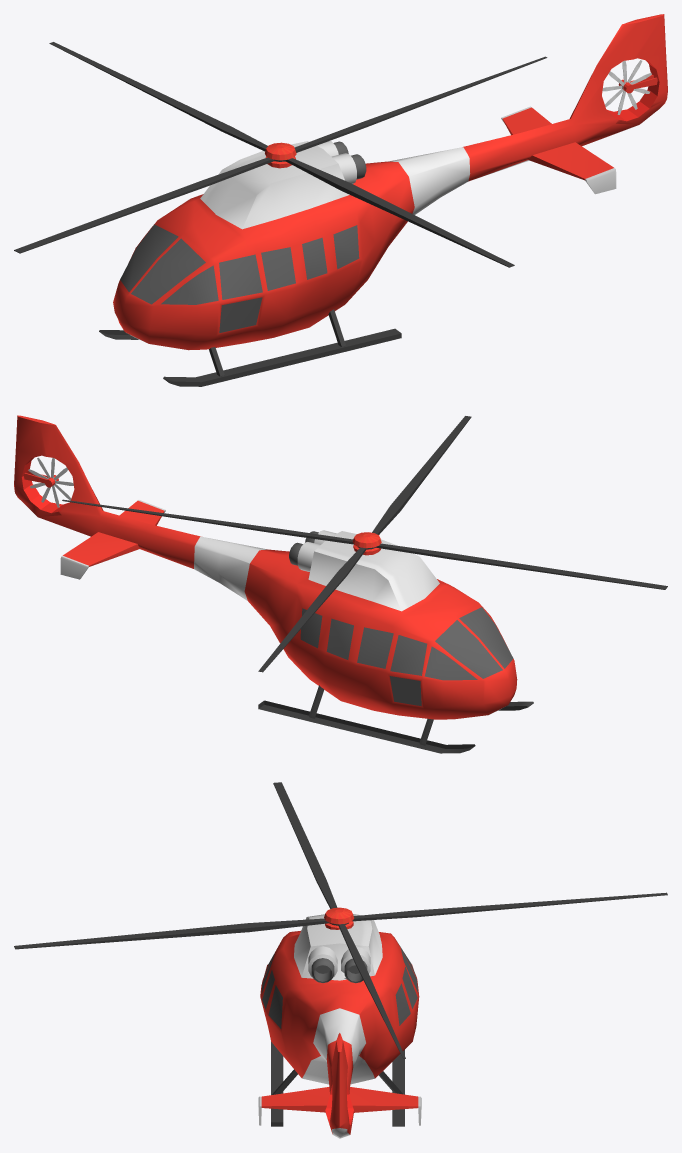
The model's file is helicopter.dae.
3 views of the same model, one above another, from view 1: azimuth 30°, elevation 25°; view 2: azimuth 150°, elevation 25°; view 3: azimuth 270°, elevation 25° (orthographic). The views are drawn at different scales.
Visible parts, largest first — view 1: Copter, Propeller_2, Legs, Propeller, Cylinder; view 2: Copter, Propeller_2, Legs, Propeller, Cylinder; view 3: Copter, Propeller_2, Legs.
Boxes of the visible parts, left/top/right/bottom form: Copter: left=113, top=14, right=667, bottom=350; Propeller_2: left=14, top=42, right=547, bottom=267; Legs: left=99, top=309, right=401, bottom=386; Propeller: left=602, top=60, right=651, bottom=114; Cylinder: left=607, top=60, right=659, bottom=121; Copter: left=14, top=415, right=517, bottom=719; Propeller_2: left=62, top=416, right=667, bottom=672; Legs: left=258, top=685, right=533, bottom=753; Propeller: left=28, top=457, right=73, bottom=507; Cylinder: left=22, top=457, right=68, bottom=513; Copter: left=258, top=914, right=421, bottom=1138; Propeller_2: left=14, top=782, right=667, bottom=1058; Legs: left=271, top=1042, right=404, bottom=1126.
Size of the model in its own units: 48.54 by 42.37 by 15.21.
Materials: 1 (1 with a texture image).
